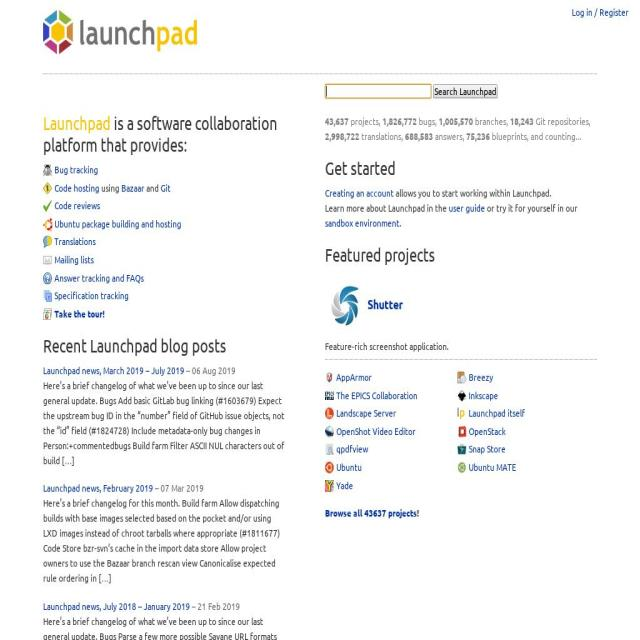button: (43, 218, 182, 234), (324, 384, 418, 406), (324, 420, 416, 442), (44, 272, 144, 288), (324, 403, 396, 424), (43, 290, 129, 307), (457, 403, 525, 424), (457, 456, 516, 477), (456, 420, 506, 442), (456, 438, 506, 460), (324, 367, 372, 388), (43, 308, 105, 324), (43, 200, 101, 217), (324, 438, 368, 460), (43, 182, 100, 198), (457, 384, 498, 406), (43, 164, 99, 180), (44, 253, 94, 270), (43, 236, 96, 252), (324, 456, 362, 477), (324, 474, 354, 496), (457, 372, 493, 388)
field: (324, 84, 432, 98), (432, 84, 498, 98)
heading: (43, 113, 278, 155), (324, 244, 597, 266), (324, 158, 597, 179), (43, 334, 286, 357), (324, 279, 365, 333), (43, 112, 111, 134), (367, 296, 403, 312)
image: (43, 10, 198, 54)
link: (43, 600, 191, 612), (43, 364, 185, 376), (43, 483, 154, 494), (324, 508, 417, 519), (324, 218, 400, 228), (324, 188, 394, 198), (572, 6, 629, 18), (448, 202, 485, 214), (121, 182, 145, 193), (161, 182, 171, 193)
text: (43, 379, 285, 466), (43, 498, 281, 584), (43, 615, 285, 640), (324, 339, 597, 360), (393, 188, 551, 198), (324, 202, 449, 214), (484, 202, 578, 214), (489, 130, 582, 142), (533, 115, 591, 126), (184, 364, 237, 376), (190, 600, 241, 612), (153, 483, 204, 494), (359, 130, 405, 142), (324, 130, 360, 142), (432, 130, 467, 142), (472, 115, 510, 126), (348, 115, 383, 126), (382, 115, 417, 126), (438, 115, 473, 126), (404, 130, 434, 142), (466, 130, 490, 142), (324, 115, 349, 126), (509, 115, 534, 126), (99, 182, 122, 193), (416, 115, 439, 126), (144, 182, 162, 193), (416, 508, 419, 519), (399, 218, 401, 228)
